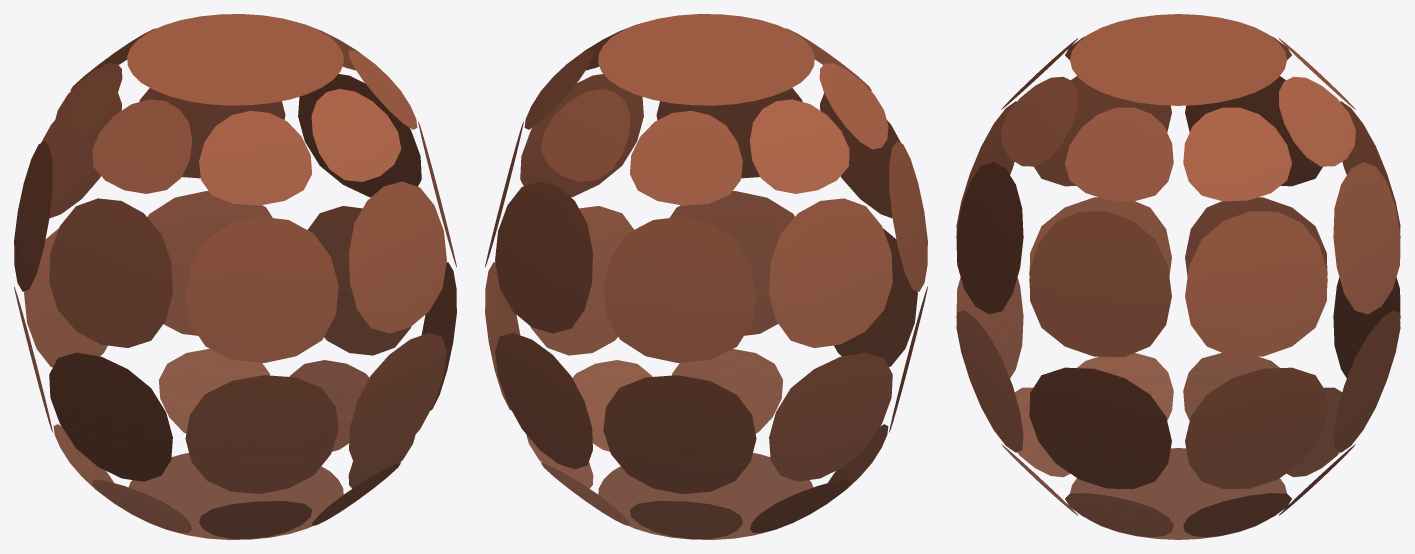
The model's file is coconut.glb.
3 views of the same model, side by side, from view 1: azimuth 30°, elevation 25°; view 2: azimuth 150°, elevation 25°; view 3: azimuth 270°, elevation 25° (orthographic).
Visible parts, largest first — view 1: coconut; view 2: coconut; view 3: coconut.
Part boxes in pixels (x1,y1,x2,y2): coconut: (14, 14, 456, 539); coconut: (485, 14, 927, 539); coconut: (956, 14, 1400, 539).
Size of the model in its own units: 0.2303 by 0.2484 by 0.2303.
1 material, 1 textured.
